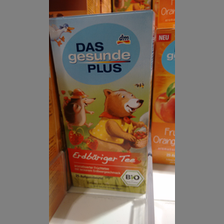tea: (49, 9, 155, 195)
